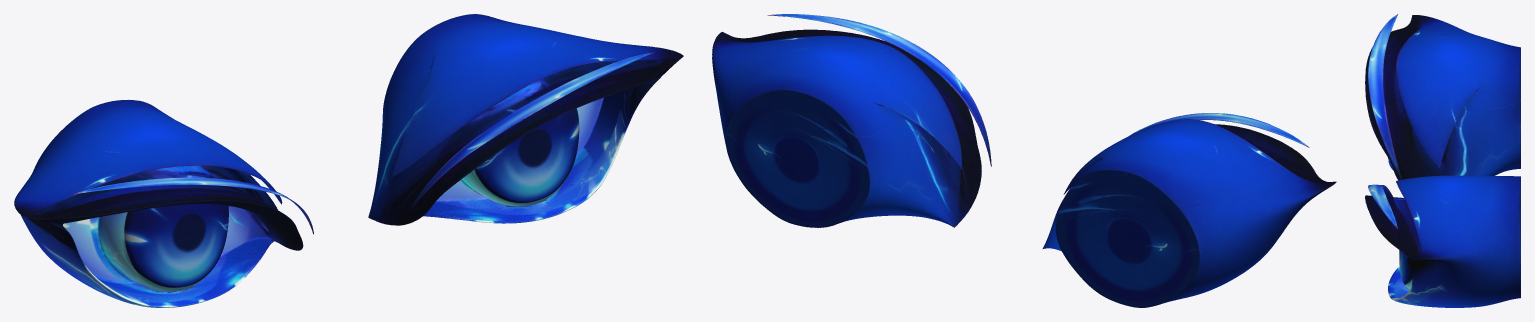
Rendered from derin.glb.
3 views of the same model, side by side, from view 1: azimuth 30°, elevation 25°; view 2: azimuth 150°, elevation 25°; view 3: azimuth 270°, elevation 25° (orthographic). The views are drawn at different scales.
Size of the model in its own units: 1.9 by 0.4052 by 0.5116.
Materials: 1 (1 with a texture image).
